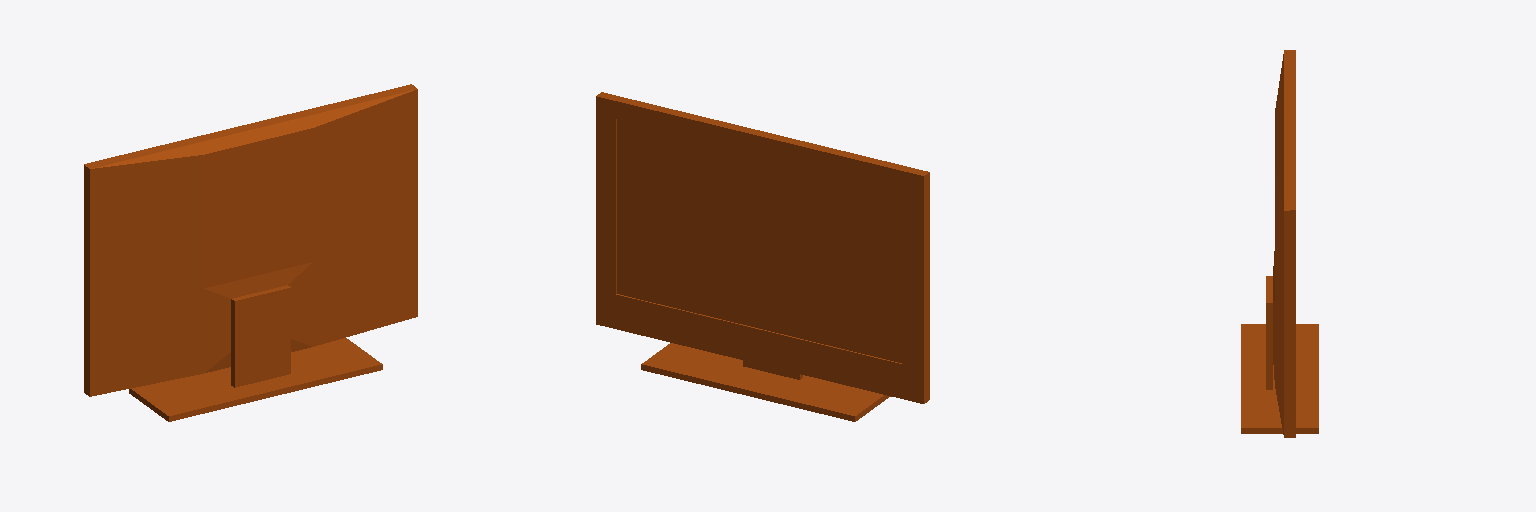
Rendered from studio_tv_vol2.obj.
3 renders of one model, left to right at view 1: azimuth 30°, elevation 25°; view 2: azimuth 150°, elevation 25°; view 3: azimuth 270°, elevation 25°, orthographic.
Parts seen in each view (by area): view 1: Box003; view 2: Box003; view 3: Box003.
Part boxes in pixels (x1,y1,x2,y2): Box003: (84, 84, 417, 421); Box003: (596, 92, 929, 421); Box003: (1241, 50, 1318, 437).
Size of the model in its own units: 1.05 by 0.7686 by 0.2173.